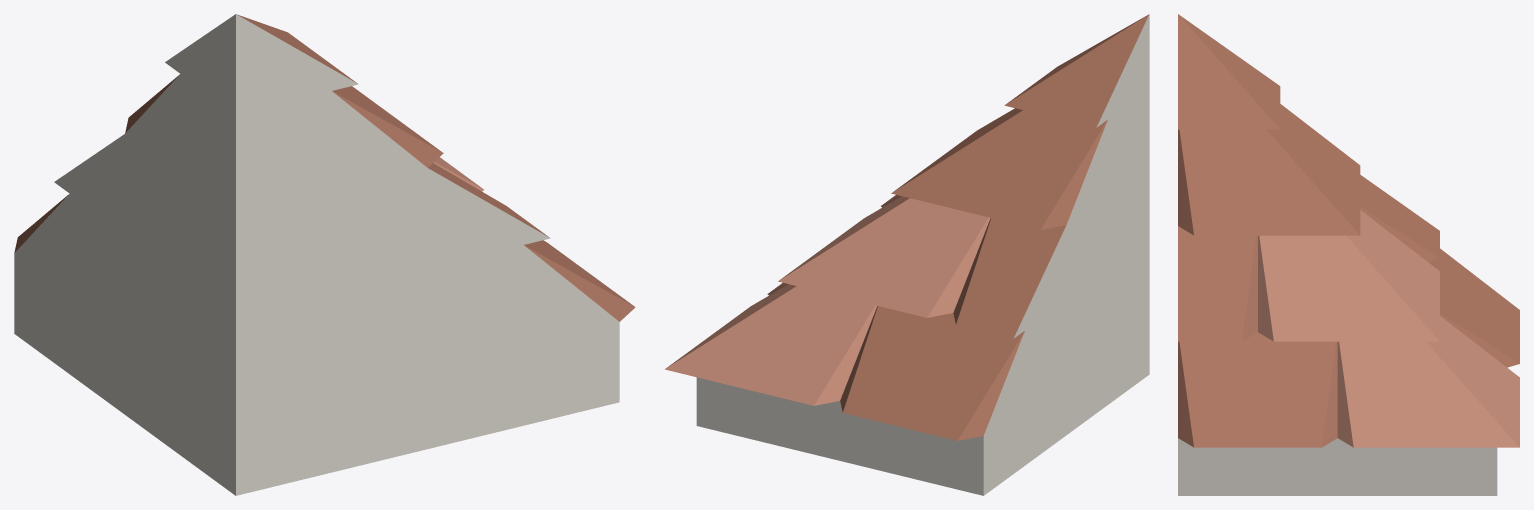
Rendered from Roof_Straight_Corner_Outer.glb.
3 views of the same model, side by side, from view 1: azimuth 30°, elevation 25°; view 2: azimuth 150°, elevation 25°; view 3: azimuth 270°, elevation 25° (orthographic). The views are drawn at different scales.
Parts seen in each view (by area): view 1: object1; view 2: object1; view 3: object1.
Boxes of the visible parts, bbox=[...] form: object1: bbox=[14, 14, 635, 495]; object1: bbox=[665, 14, 1149, 495]; object1: bbox=[1178, 14, 1519, 495].
Bounding box in the file's own units: 1.07 × 1.2 × 1.07.
